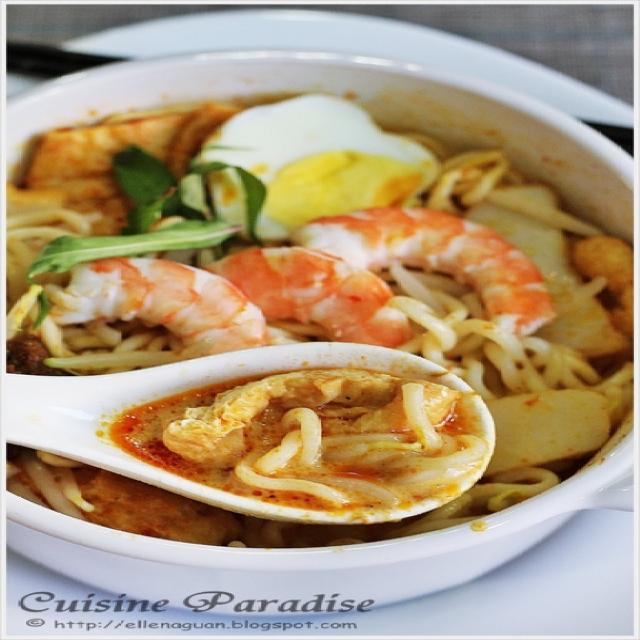面条主食: (20, 42, 608, 581)
